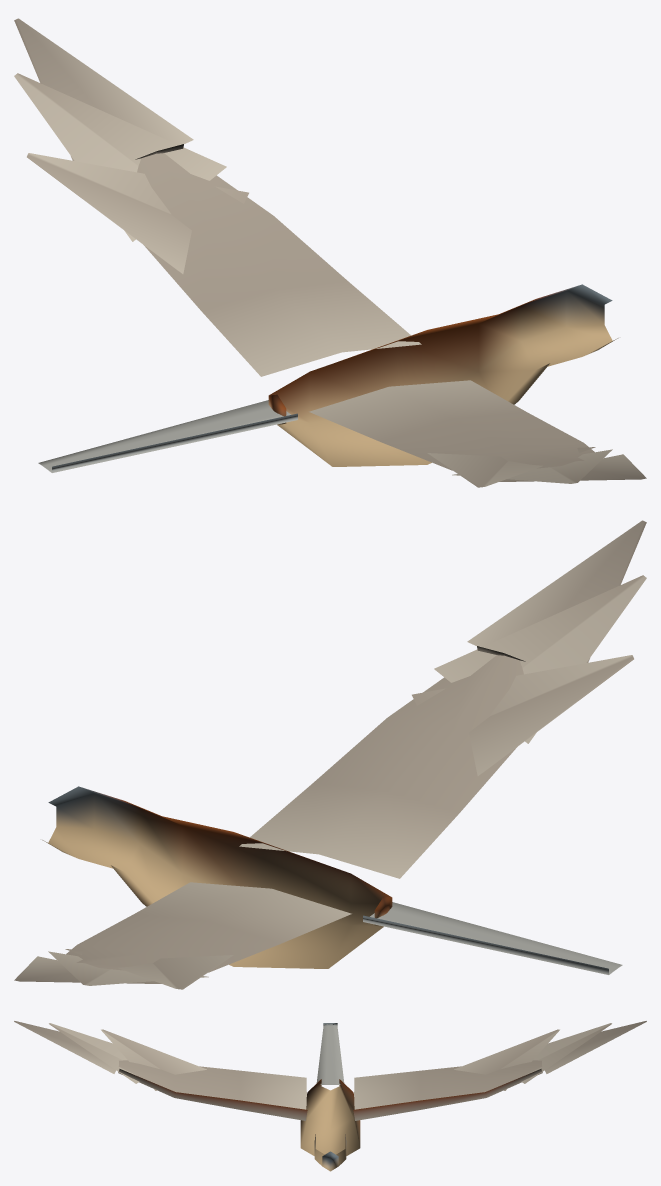
File: SM_Bird_kestrel_flap1_LOD2.glb
3 views of the same model, one above another, from view 1: azimuth 30°, elevation 25°; view 2: azimuth 150°, elevation 25°; view 3: azimuth 270°, elevation 25° (orthographic). The views are drawn at different scales.
Parts seen in each view (by area): view 1: SM_Bird_kestrel_flap1_LOD2; view 2: SM_Bird_kestrel_flap1_LOD2; view 3: SM_Bird_kestrel_flap1_LOD2.
Part boxes in pixels (box(x1,y1,x2,y2)): SM_Bird_kestrel_flap1_LOD2: box(14, 18, 646, 487); SM_Bird_kestrel_flap1_LOD2: box(14, 520, 646, 989); SM_Bird_kestrel_flap1_LOD2: box(14, 1021, 646, 1171).
Size of the model in its own units: 0.3642 by 0.1494 by 0.6966.
